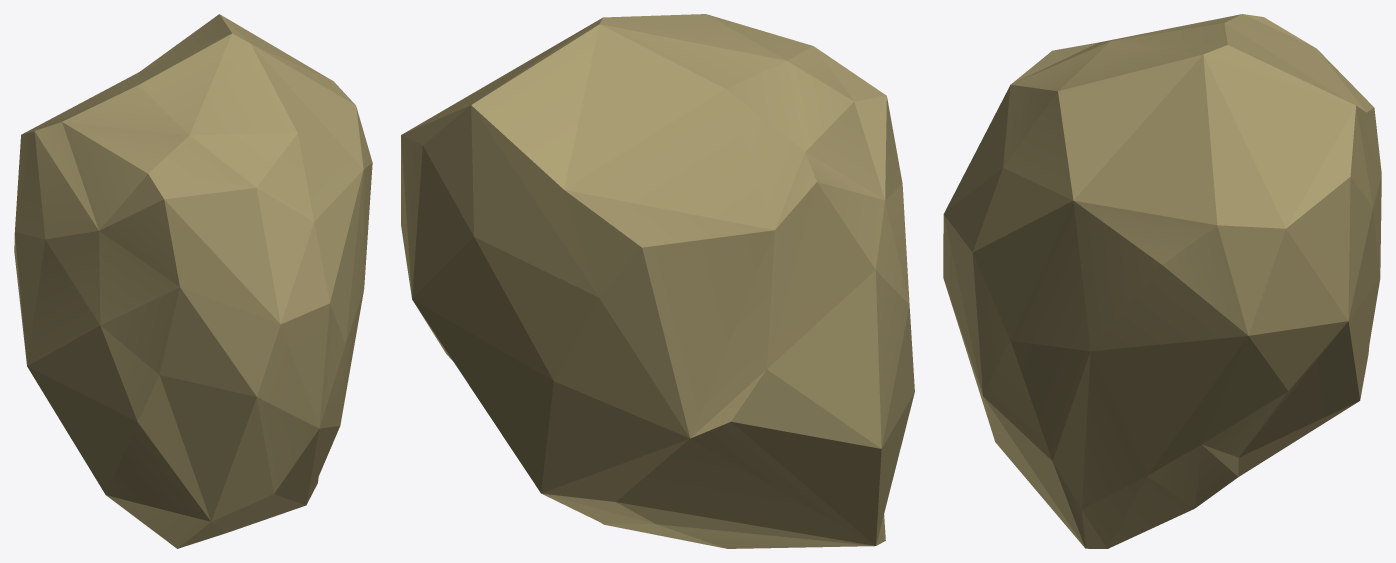
File: SM_small_rock_16.fbx
3 views of the same model, side by side, from view 1: azimuth 30°, elevation 25°; view 2: azimuth 150°, elevation 25°; view 3: azimuth 270°, elevation 25° (orthographic). The views are drawn at different scales.
Visible parts, largest first — view 1: small_rock_16; view 2: small_rock_16; view 3: small_rock_16.
Boxes of the visible parts, x1=… form: small_rock_16: x1=14, y1=14, x2=372, y2=548; small_rock_16: x1=401, y1=14, x2=914, y2=548; small_rock_16: x1=943, y1=14, x2=1381, y2=548.
Size of the model in its own units: 42.02 by 48.85 by 39.09.
